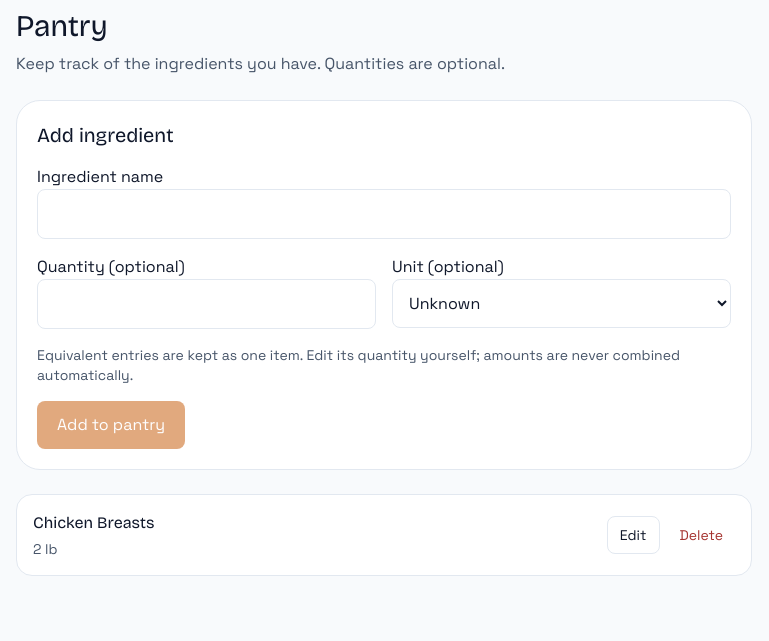
edits populated pantry without merging quantities
Click the button with aria-label "Edit Chicken Breasts" at (633, 535), box [607,516,660,554]
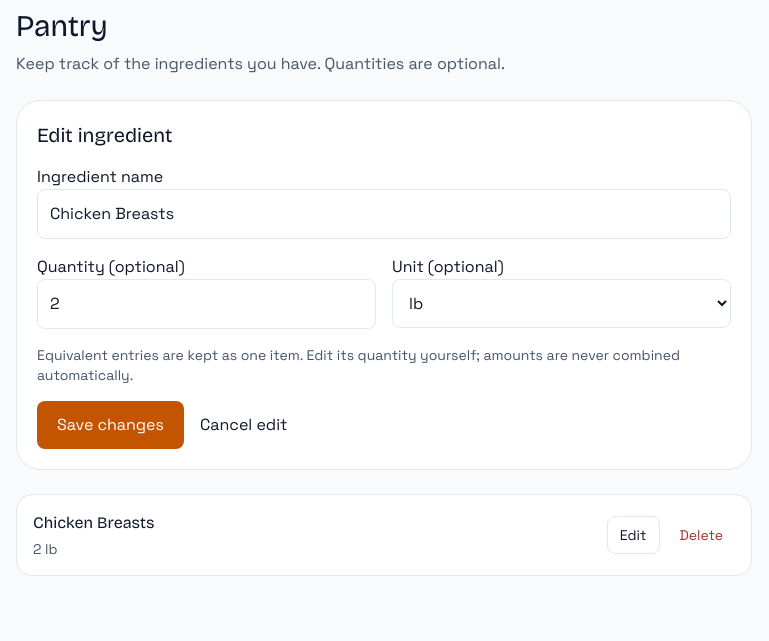
Replace the text in the number field labelled "Quantity (optional)" with "4" at (206, 304), box [37,279,376,329]
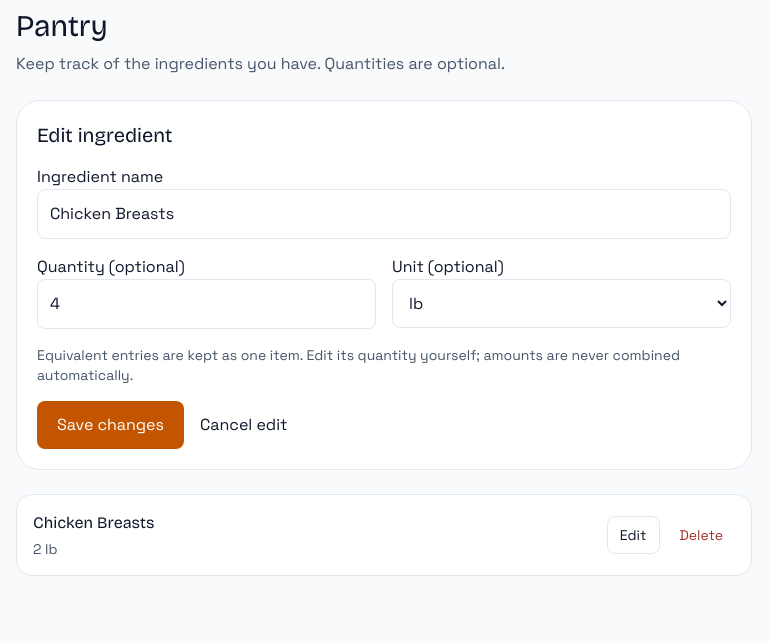
Click the button "Save changes" at (110, 425), box [37,401,184,449]
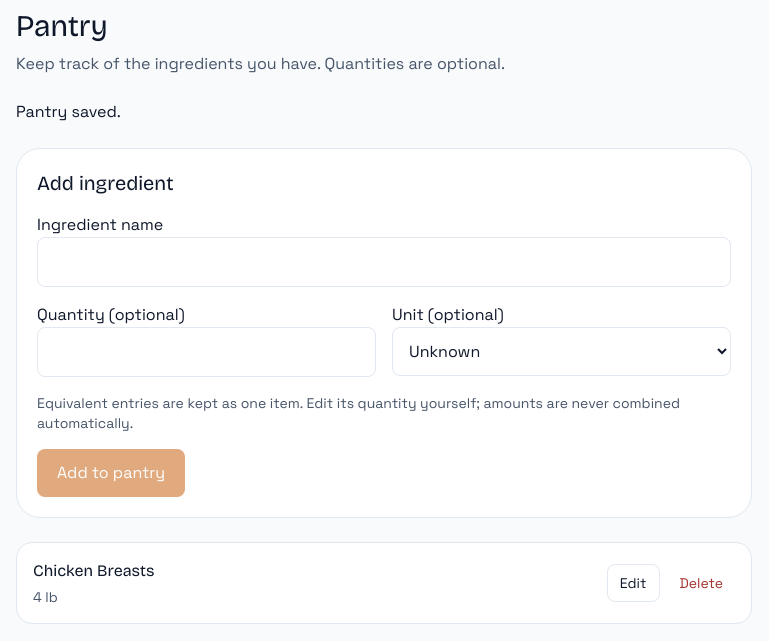
Now the text "4 lb" is shown, box [33,588,58,606]
